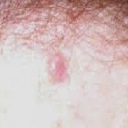Carcinoma: (45, 53, 70, 89)
